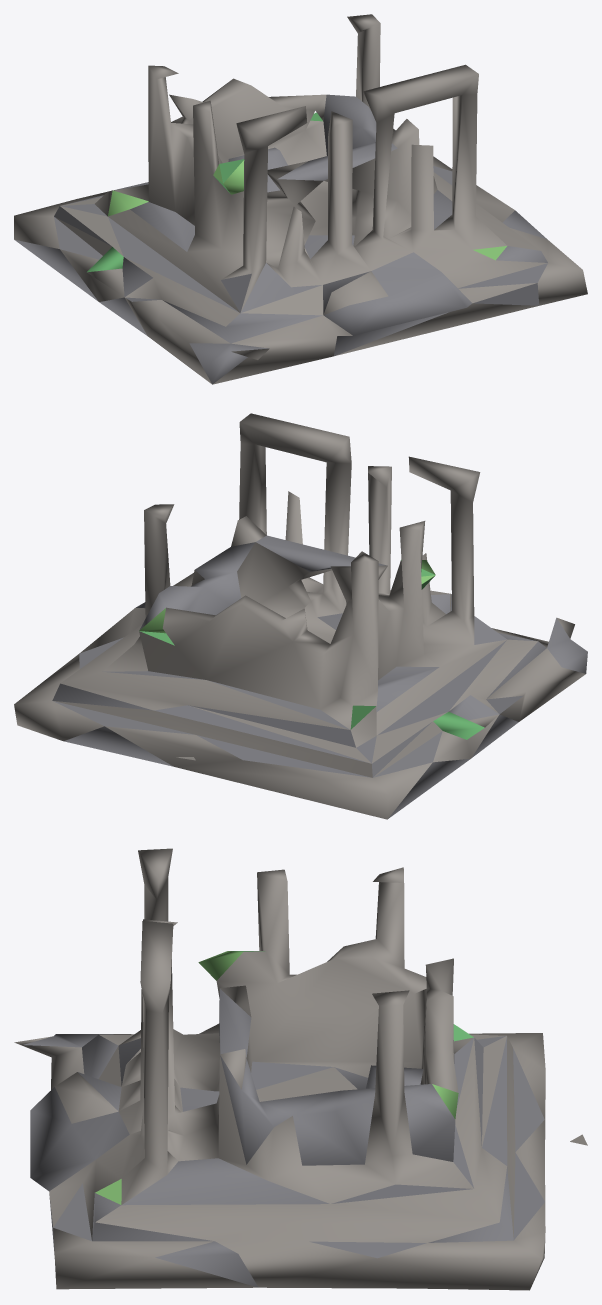
Rendered from poi_ruin_temple_lods.glb.
The picture shows the model from 3 angles, top to bottom: view 1: azimuth 30°, elevation 25°; view 2: azimuth 150°, elevation 25°; view 3: azimuth 270°, elevation 25°; orthographic projection. The views are drawn at different scales.
Visible parts, largest first — view 1: poi_ruin_temple_far; view 2: poi_ruin_temple_far; view 3: poi_ruin_temple_far.
Part boxes in pixels (bbox=[...]): poi_ruin_temple_far: bbox=[14, 14, 587, 384]; poi_ruin_temple_far: bbox=[14, 413, 587, 819]; poi_ruin_temple_far: bbox=[14, 848, 587, 1290].
Size of what is drawn, in the model's own units: 13.4 by 7.14 by 13.93.
